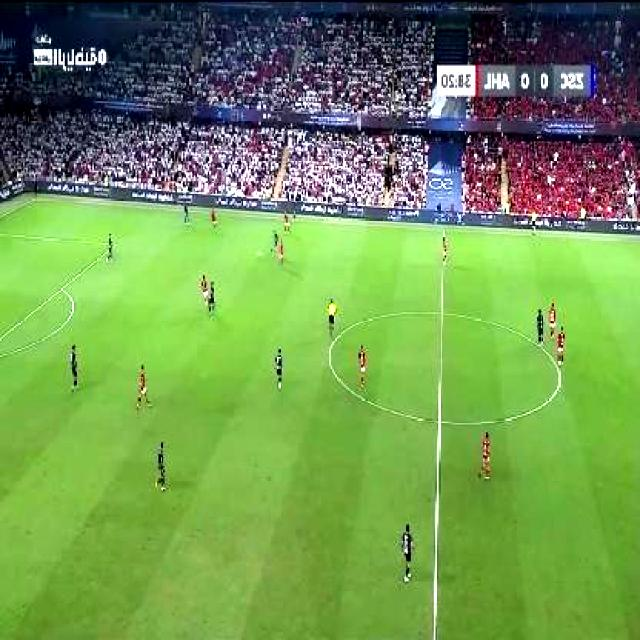corner: (30, 192, 44, 203)
halfcircle_bottom: (429, 406, 451, 434)
halfcircle_top: (432, 302, 454, 324)
midline_top_intersection: (437, 220, 451, 237)
top_arc_area_intersection: (57, 280, 69, 294)
